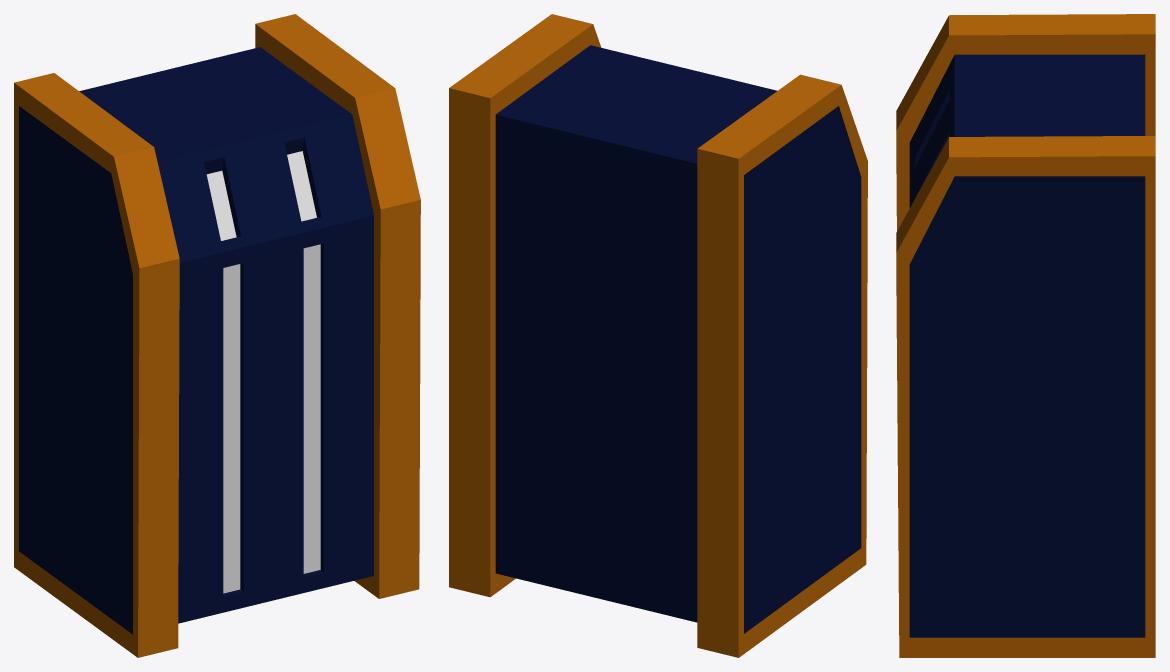
Rendered from Building_1.fbx.
3 views of the same model, side by side, from view 1: azimuth 30°, elevation 25°; view 2: azimuth 150°, elevation 25°; view 3: azimuth 270°, elevation 25° (orthographic). The views are drawn at different scales.
Parts seen in each view (by area): view 1: Cube.004, Cube.006, Cube.005; view 2: Cube.004, Cube.006; view 3: Cube.004, Cube.006.
Part boxes in pixels (bbox=[...]): Cube.004: bbox=[19, 47, 373, 634]; Cube.006: bbox=[14, 14, 420, 657]; Cube.005: bbox=[206, 151, 320, 593]; Cube.004: bbox=[495, 45, 861, 633]; Cube.006: bbox=[449, 14, 867, 657]; Cube.004: bbox=[909, 54, 1145, 637]; Cube.006: bbox=[896, 14, 1155, 657].
Size of the model in its own units: 400 by 658 by 309.
